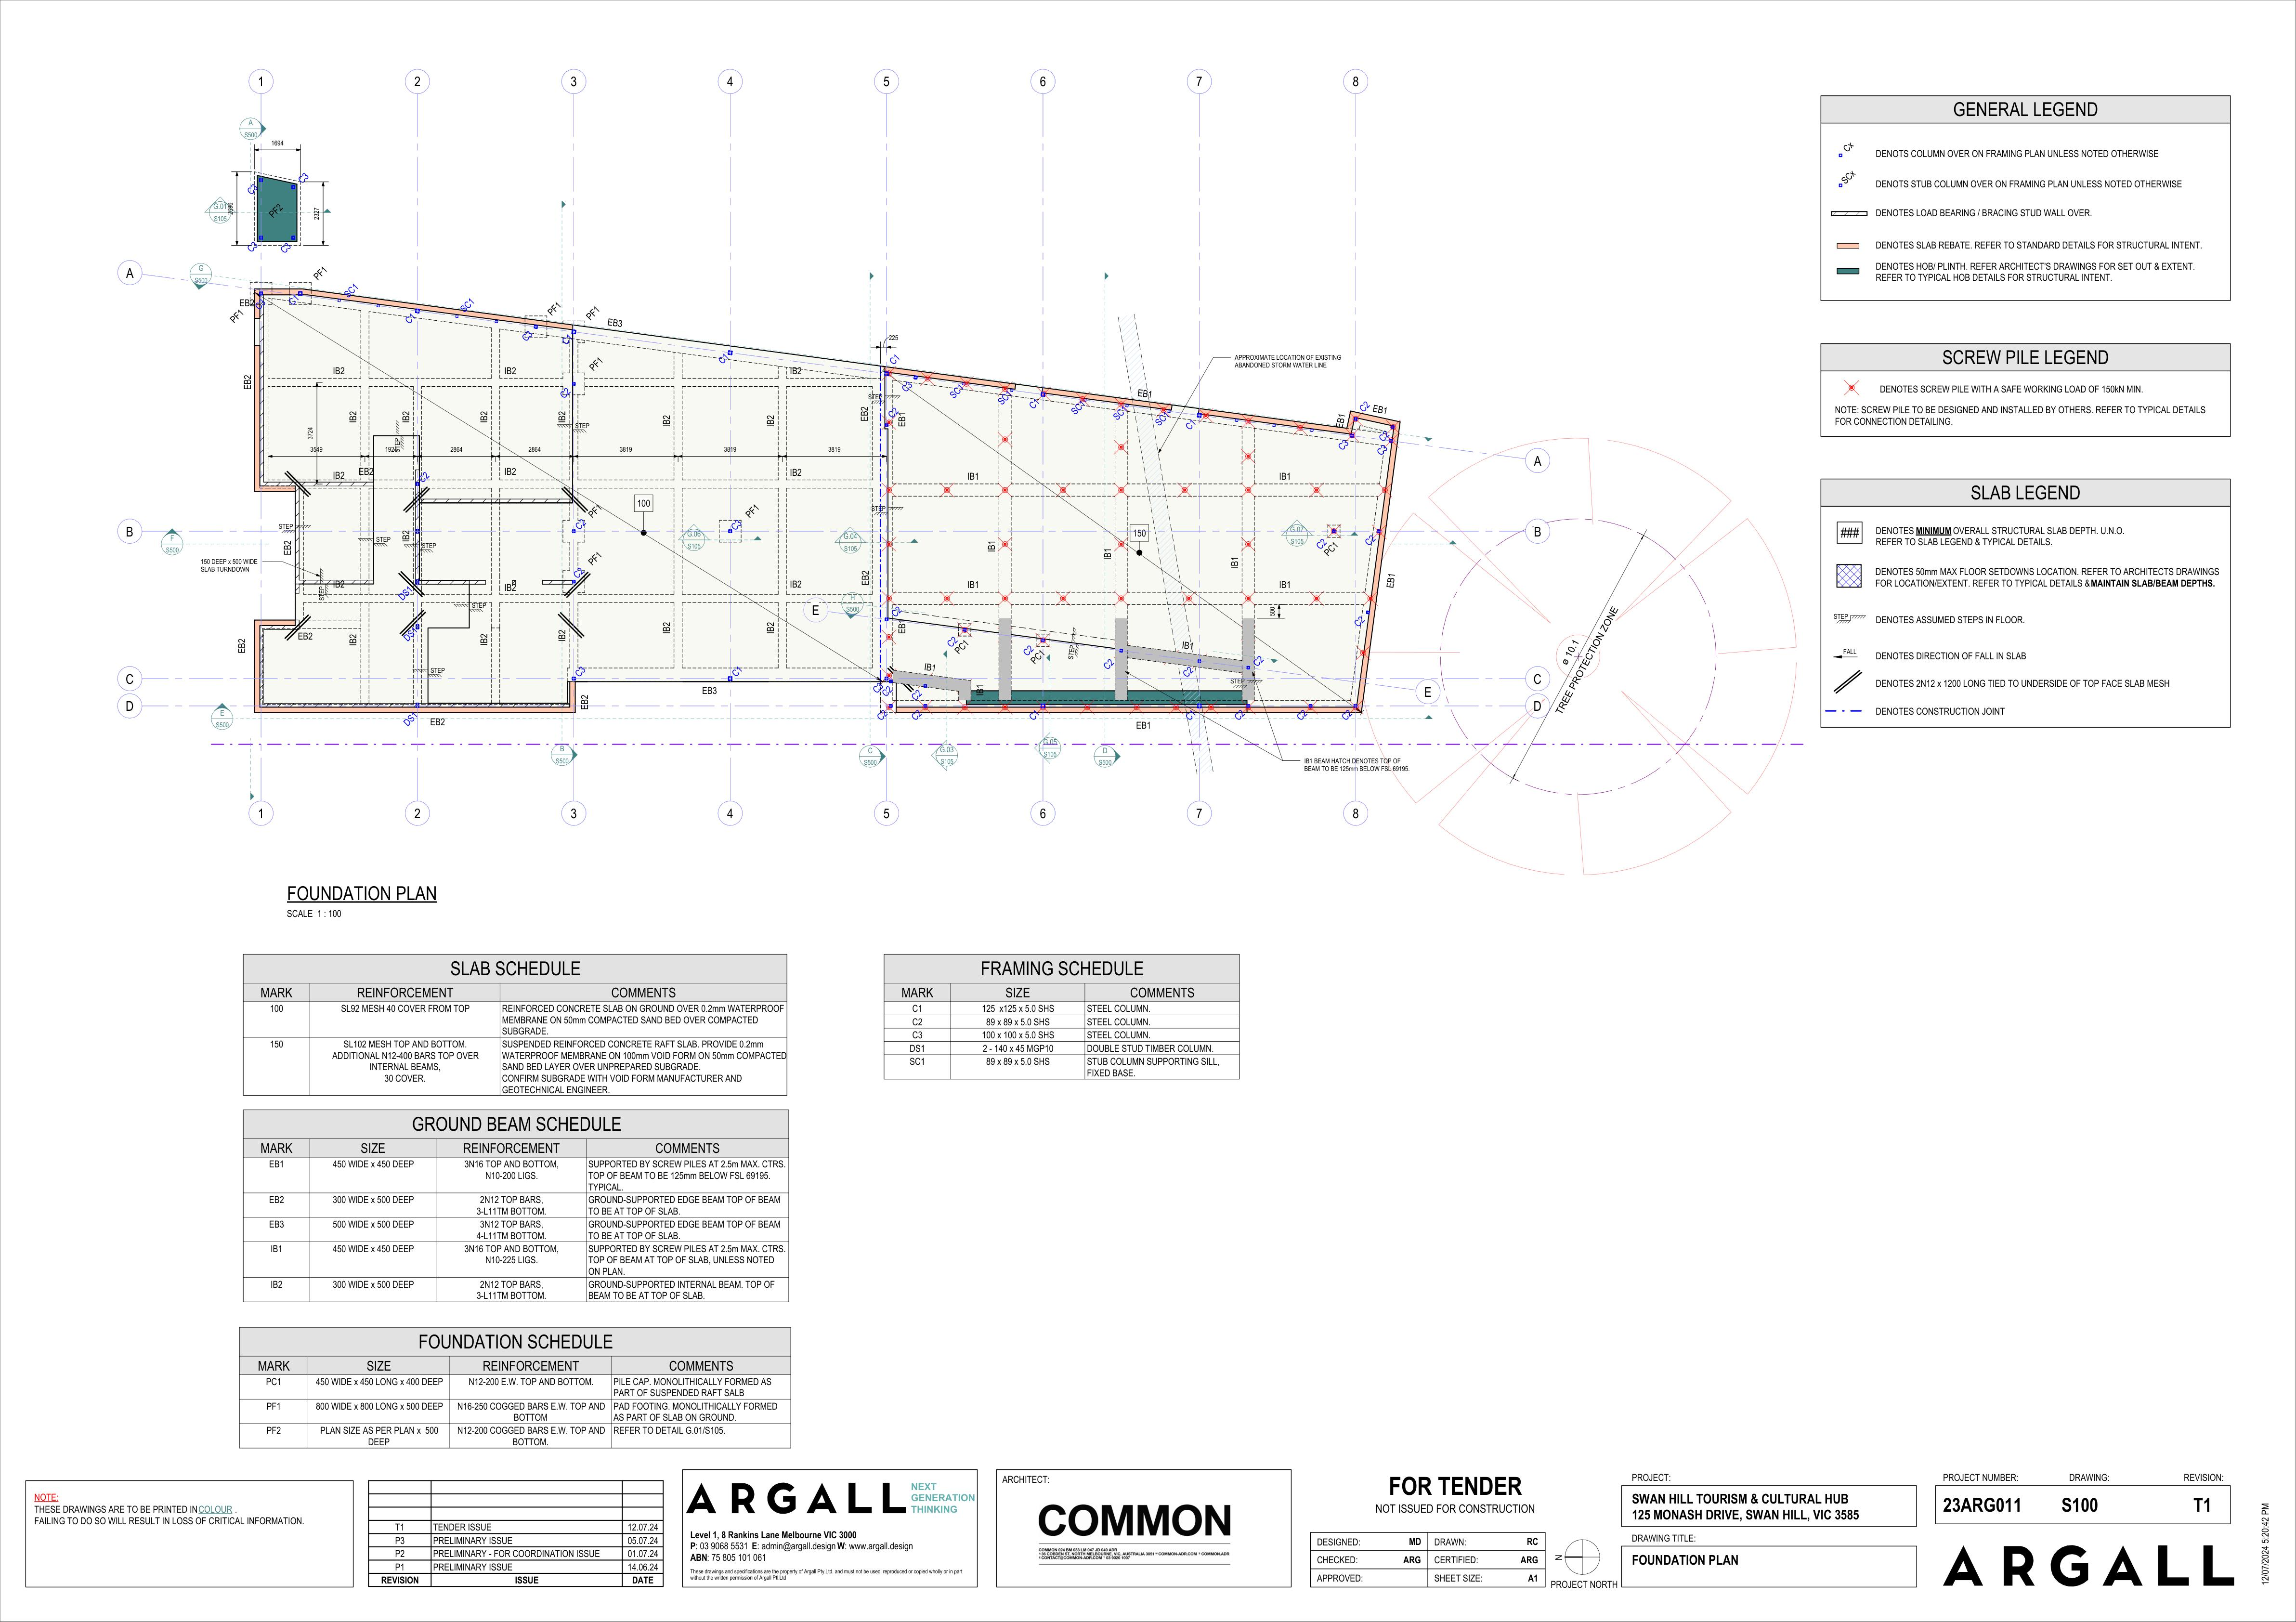EB1: (1387, 569, 1403, 595), (1369, 397, 1394, 413), (1125, 721, 1155, 732), (895, 618, 911, 635), (897, 411, 909, 432), (1134, 383, 1152, 397), (1336, 413, 1348, 427)
EB2: (279, 535, 295, 560), (239, 370, 255, 393), (425, 713, 448, 728), (858, 563, 872, 588), (233, 635, 249, 657), (578, 690, 593, 711), (858, 404, 872, 425), (353, 467, 379, 477), (239, 293, 256, 307), (298, 632, 316, 641)
EB3: (700, 685, 720, 697)
IB1: (1099, 542, 1120, 563), (1276, 572, 1294, 592), (983, 535, 1001, 553), (1274, 467, 1294, 483), (964, 578, 983, 592), (1181, 635, 1197, 651), (1229, 549, 1241, 569), (922, 658, 937, 672), (965, 467, 979, 481), (974, 683, 985, 695)
IB2: (764, 618, 786, 637), (660, 616, 678, 635), (476, 402, 491, 423), (783, 574, 804, 590), (760, 409, 776, 428), (790, 360, 806, 379), (502, 363, 520, 379), (400, 407, 416, 425), (346, 630, 360, 650), (477, 632, 493, 648), (330, 363, 348, 377), (660, 413, 674, 430), (500, 463, 518, 477), (328, 470, 346, 483), (328, 578, 346, 590), (556, 407, 569, 423), (556, 628, 569, 644), (344, 409, 356, 423), (788, 467, 804, 477), (402, 527, 411, 542), (502, 583, 518, 592)
PC1: (953, 639, 972, 657), (1029, 650, 1048, 664), (1325, 542, 1341, 556)
PF1: (585, 300, 606, 321), (309, 262, 330, 281), (586, 548, 602, 569), (588, 358, 606, 376), (548, 298, 563, 318), (585, 500, 602, 516), (744, 502, 760, 518), (228, 309, 242, 325)
PF2: (265, 202, 288, 219)
